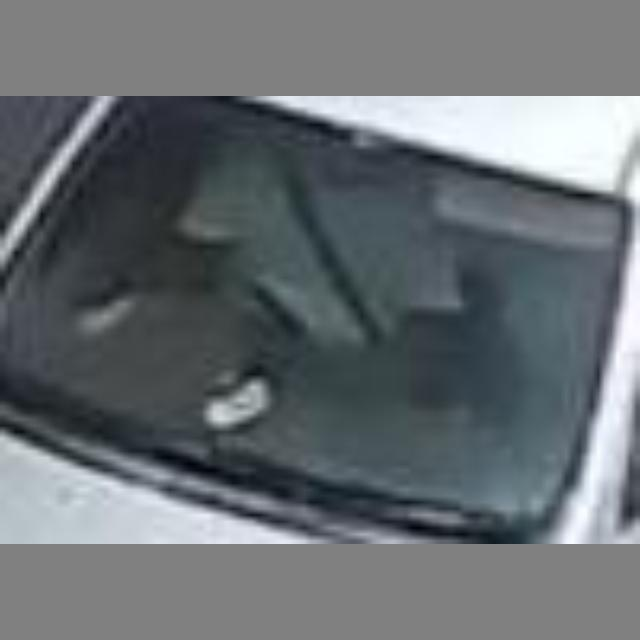pakai: (173, 141, 442, 422)
